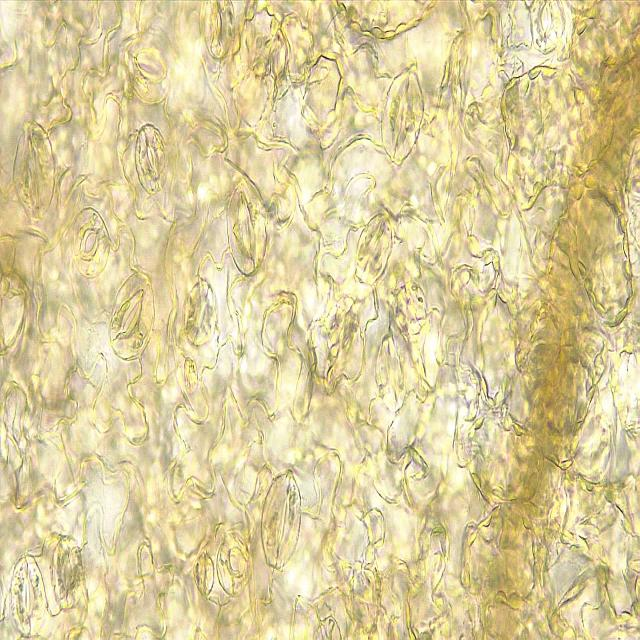Stomata: (11, 117, 58, 223), (258, 466, 303, 574), (106, 270, 157, 365), (380, 65, 426, 168), (224, 176, 269, 278), (122, 34, 174, 106), (9, 552, 48, 640), (353, 210, 394, 290), (70, 204, 112, 279), (132, 121, 170, 198), (48, 534, 85, 612), (180, 277, 219, 349), (216, 528, 253, 601), (198, 0, 236, 63), (528, 0, 567, 56)
